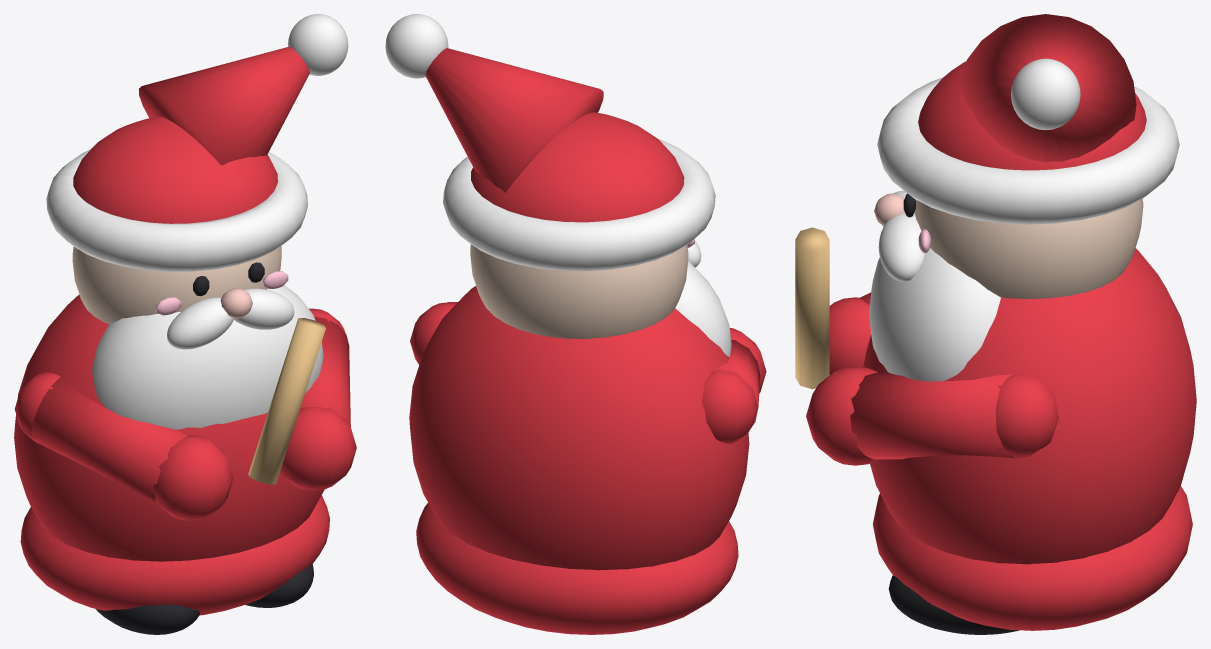
Rendered from churros.glb.
The picture shows the model from 3 angles, left to right: view 1: azimuth 30°, elevation 25°; view 2: azimuth 150°, elevation 25°; view 3: azimuth 270°, elevation 25°; orthographic projection. The views are drawn at different scales.
Parts seen in each view (by area): view 1: churros_red, churros_white, churros_skin, churros_bread, churros_black, churros_nose, churros_pink; view 2: churros_red, churros_white, churros_skin; view 3: churros_red, churros_white, churros_skin, churros_bread, churros_black, churros_nose.
Part boxes in pixels (left/top/right/bottom): churros_red: left=14, top=46, right=356, bottom=615; churros_white: left=46, top=14, right=348, bottom=429; churros_skin: left=72, top=246, right=281, bottom=324; churros_bread: left=248, top=318, right=325, bottom=484; churros_black: left=96, top=262, right=313, bottom=634; churros_nose: left=220, top=288, right=252, bottom=318; churros_pink: left=156, top=271, right=288, bottom=315; churros_red: left=409, top=48, right=766, bottom=634; churros_white: left=385, top=14, right=731, bottom=356; churros_skin: left=470, top=244, right=688, bottom=338; churros_red: left=806, top=14, right=1196, bottom=630; churros_white: left=869, top=58, right=1179, bottom=381; churros_skin: left=914, top=199, right=1143, bottom=298; churros_bread: left=795, top=227, right=829, bottom=389; churros_black: left=888, top=193, right=1019, bottom=634; churros_nose: left=874, top=193, right=904, bottom=225.
Size of the model in its own units: 2.08 by 3.16 by 1.86.
